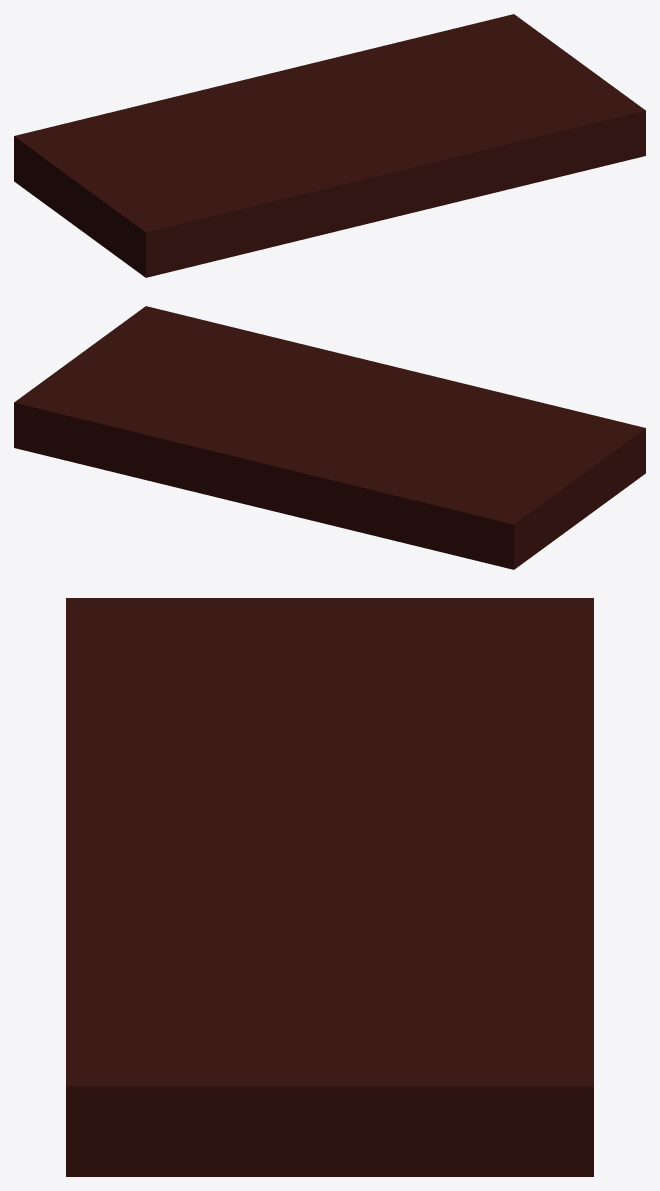
Rendered from TileSuelo.fbx.
3 renders of one model, top to bottom at view 1: azimuth 30°, elevation 25°; view 2: azimuth 150°, elevation 25°; view 3: azimuth 270°, elevation 25°, orthographic. The views are drawn at different scales.
Visible parts, largest first — view 1: Suelo01.001; view 2: Suelo01.001; view 3: Suelo01.001.
Boxes of the visible parts, <box> form: Suelo01.001: <box>14,14,645,277</box>; Suelo01.001: <box>14,306,645,569</box>; Suelo01.001: <box>66,598,593,1176</box>.
Bounding box in the file's own units: 657 × 56.85 × 300.
